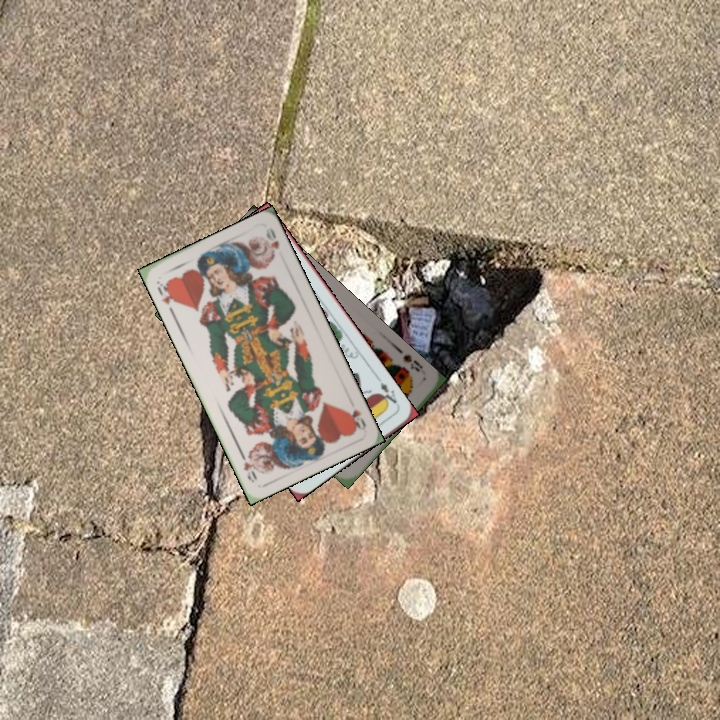EA: (374, 378, 402, 409)
HO: (152, 277, 179, 307), (343, 405, 369, 433)
S8: (399, 350, 426, 375)
